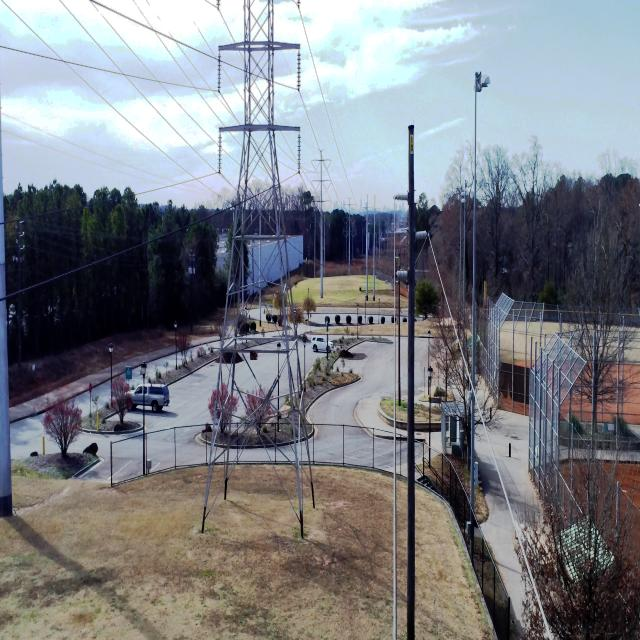poles: (202, 0, 309, 536), (0, 116, 13, 517), (406, 124, 416, 640), (313, 150, 330, 299), (347, 198, 356, 275), (365, 195, 370, 302), (372, 195, 376, 301)
wires: (480, 412, 554, 640), (0, 221, 200, 301), (292, 0, 354, 198), (0, 44, 219, 92), (88, 0, 220, 62), (419, 231, 469, 379), (469, 279, 476, 429), (280, 64, 301, 98), (460, 211, 464, 288), (281, 43, 300, 50)
